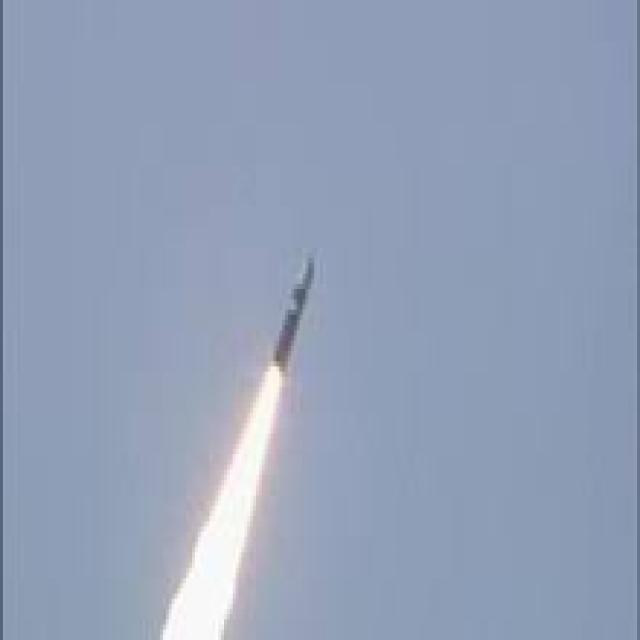missile: (272, 259, 322, 380)
